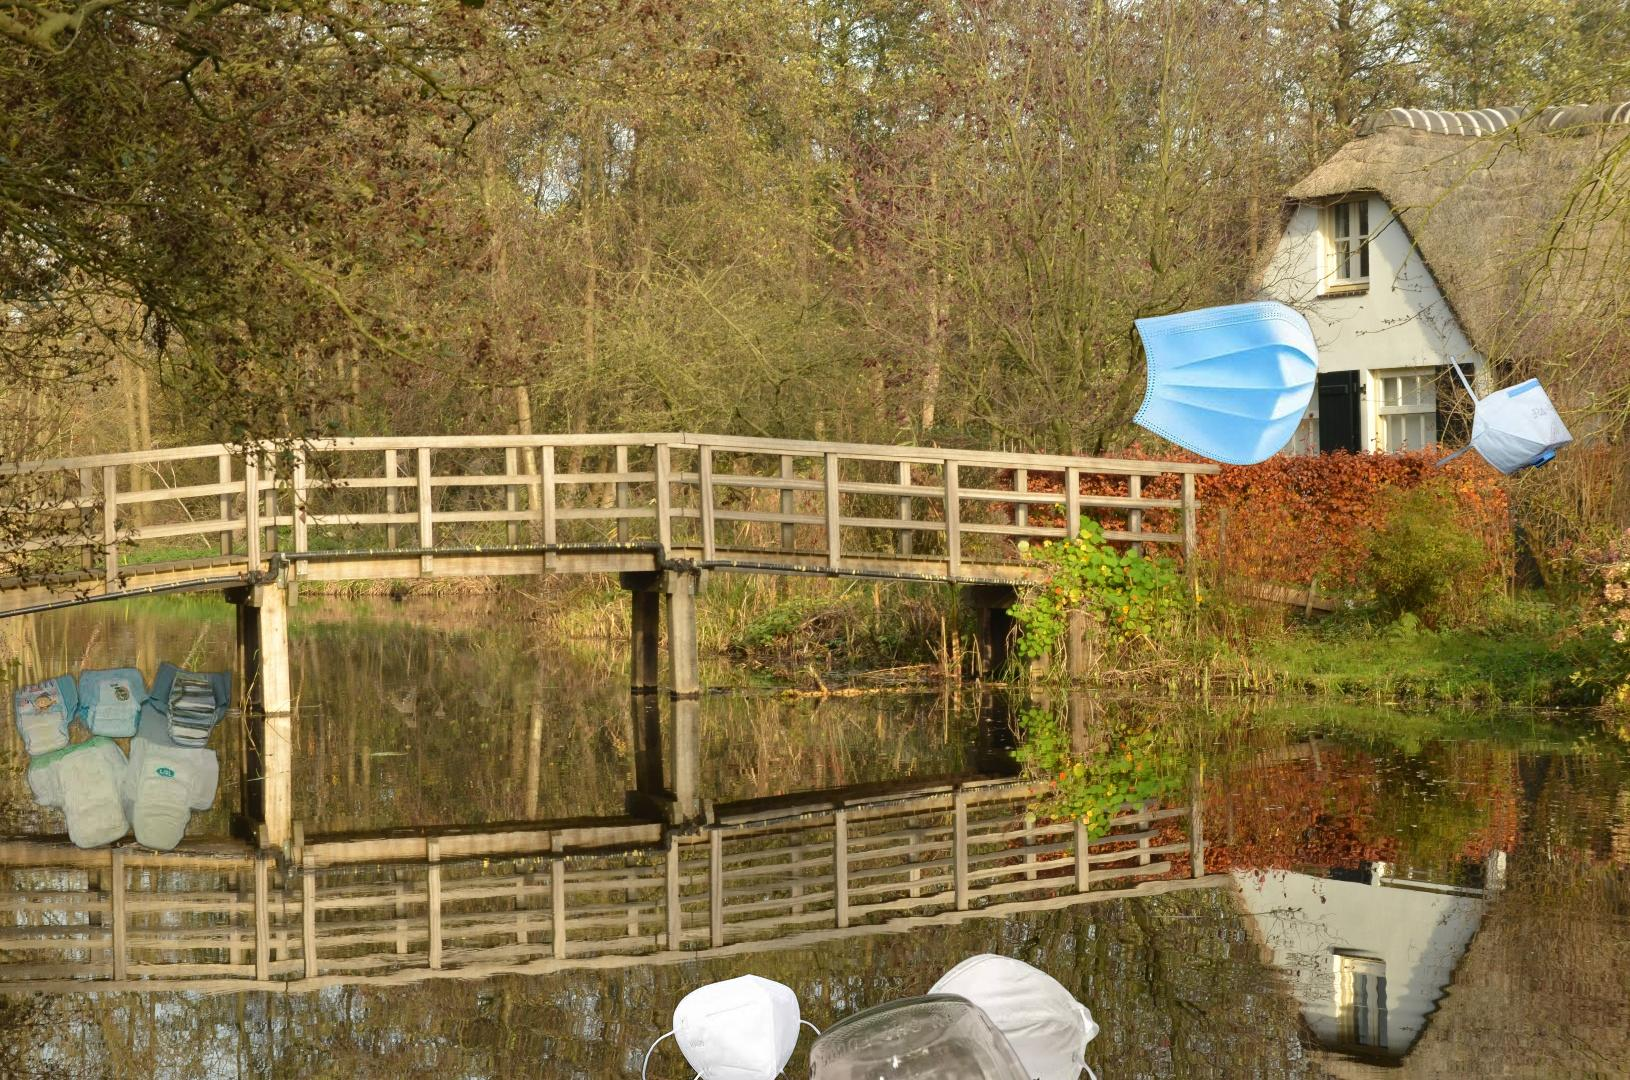glass: (804, 991, 1083, 1080)
trash: (8, 659, 233, 855), (1129, 274, 1319, 466), (900, 950, 1102, 1080), (639, 972, 829, 1080), (1432, 353, 1576, 479)
